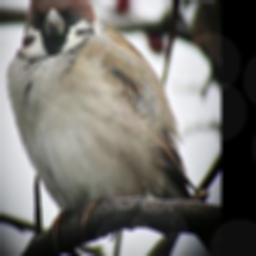Sparrow: (7, 0, 198, 256)
